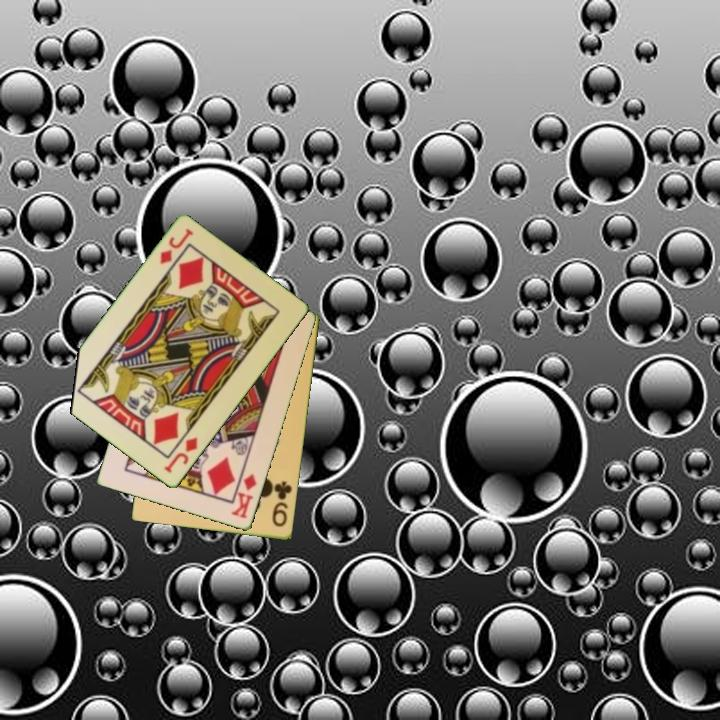9c: (269, 478, 295, 530)
Jd: (160, 434, 201, 477), (156, 225, 196, 267)
Kd: (228, 470, 260, 522)
